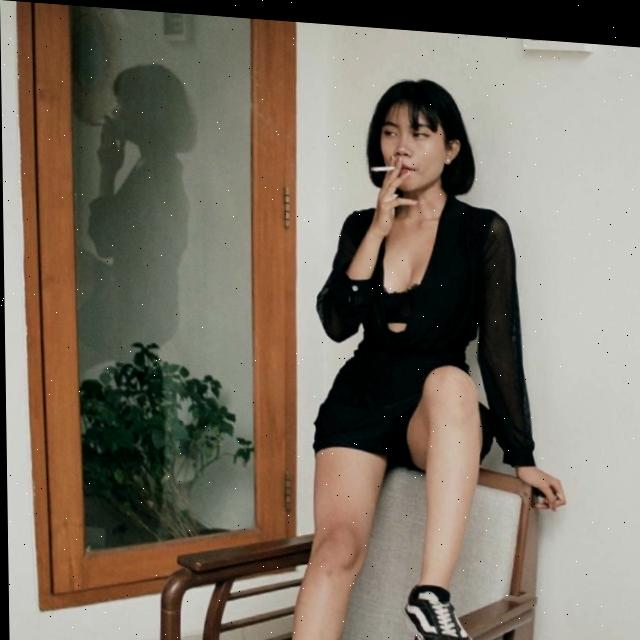cigarette: (371, 159, 395, 167)
